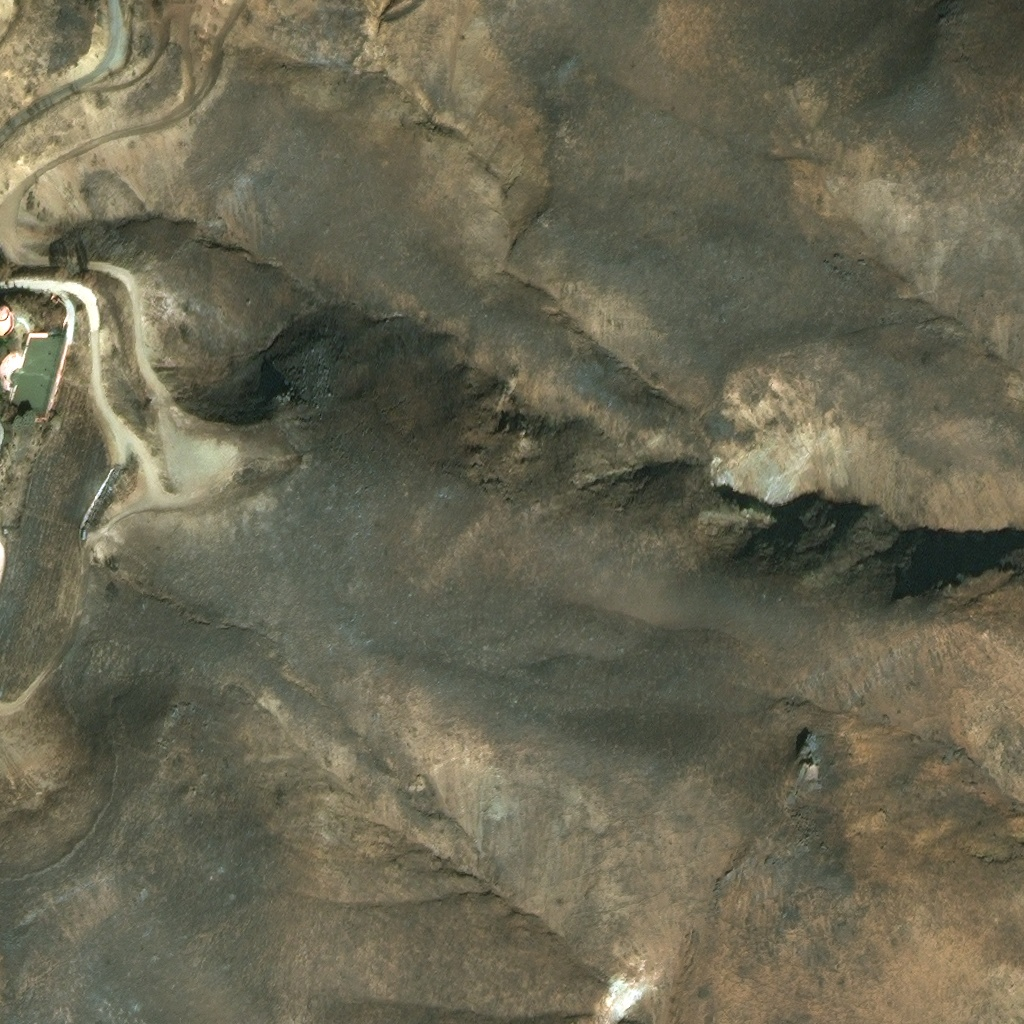3 destroyed: (93, 480, 113, 503), (86, 505, 98, 521), (109, 465, 122, 477)
4 un-classified: (0, 245, 2, 255)
